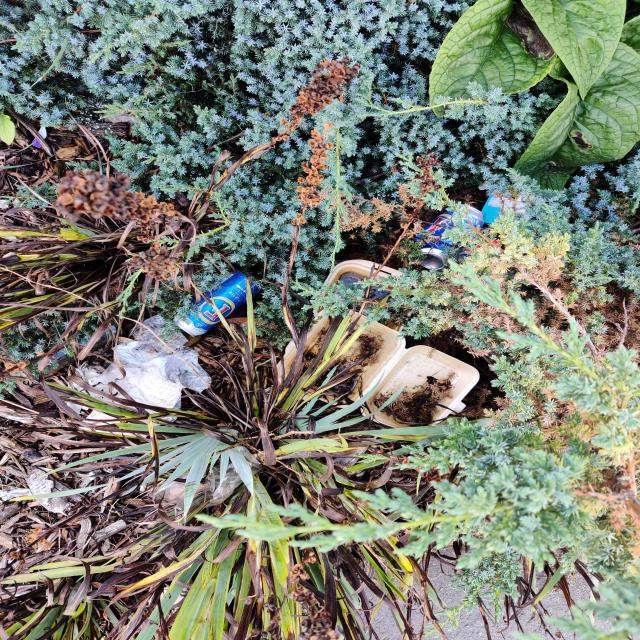litter: (275, 303, 508, 451), (143, 254, 292, 349), (396, 191, 509, 291)
